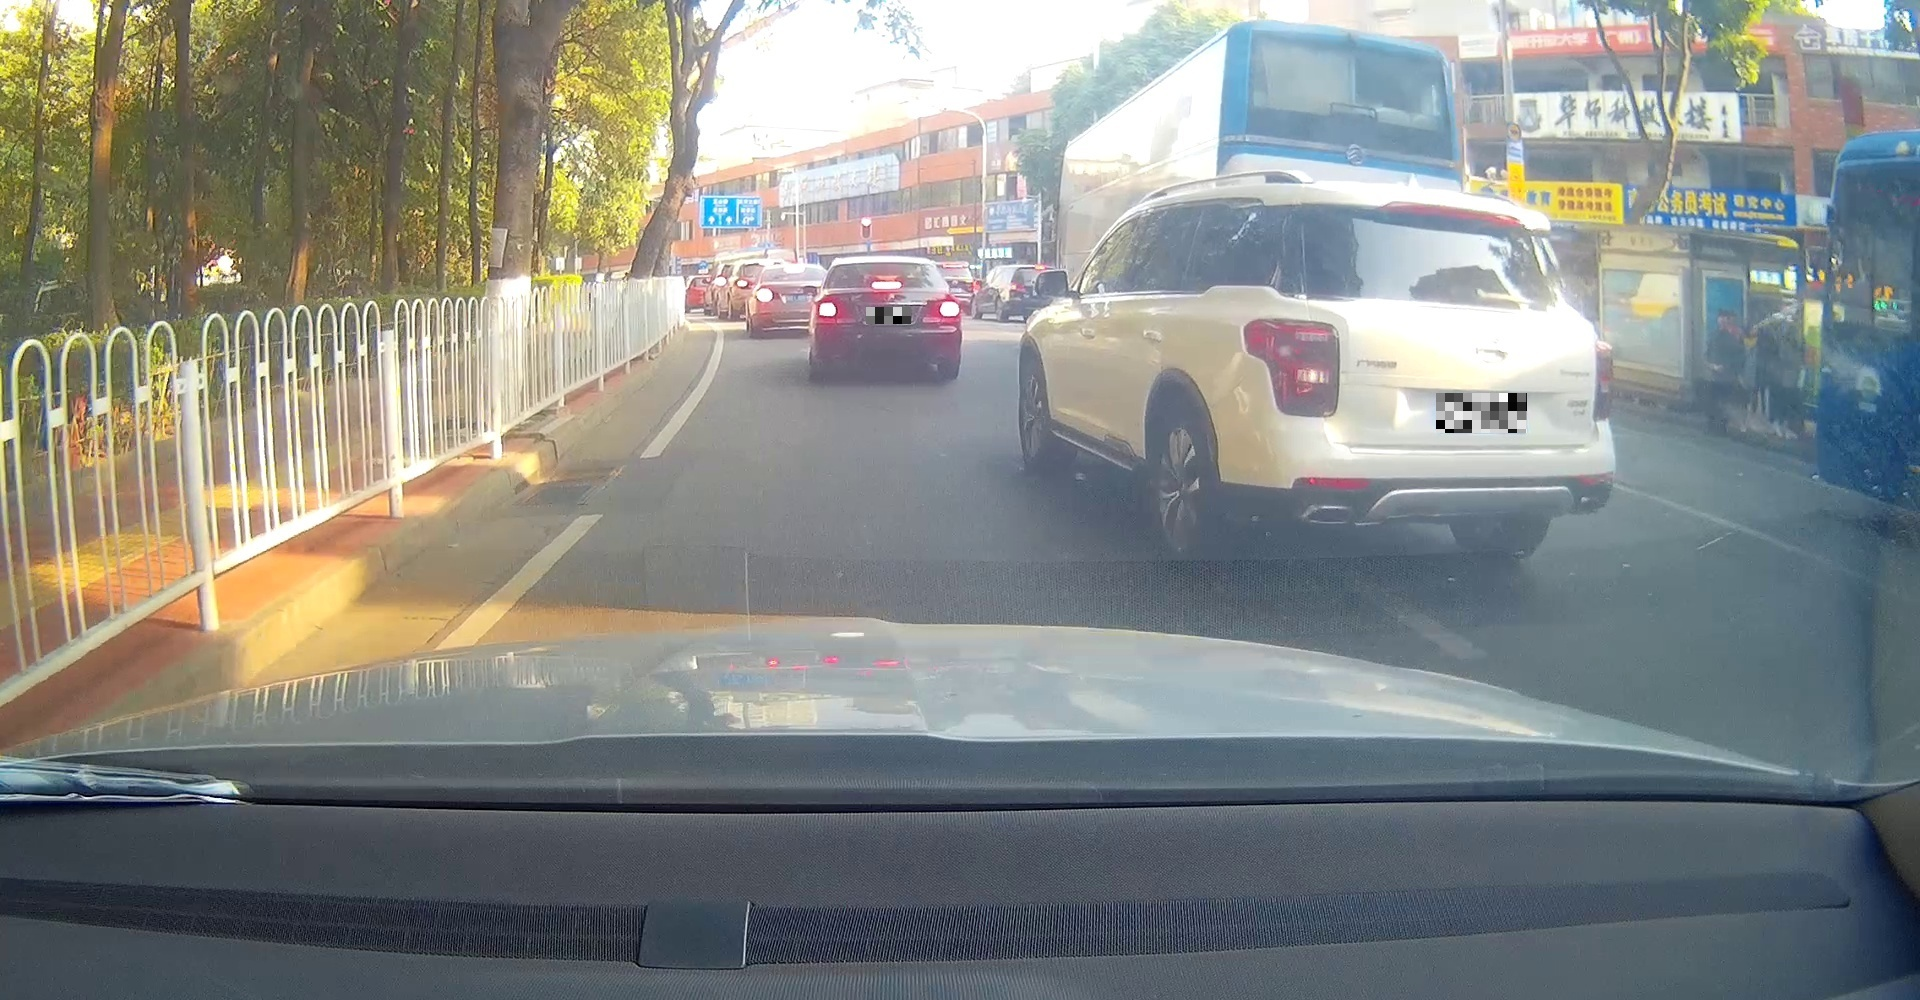L_light: (1242, 316, 1338, 418), (814, 296, 857, 324)
R_light: (1591, 338, 1613, 421), (922, 296, 961, 324)
T_light: (1373, 199, 1521, 230), (870, 280, 903, 289)
day-brake: (811, 255, 963, 378)
day-no: (1239, 179, 1617, 555)
plate_1: (866, 307, 910, 324)
plate_2: (1436, 393, 1528, 433)
